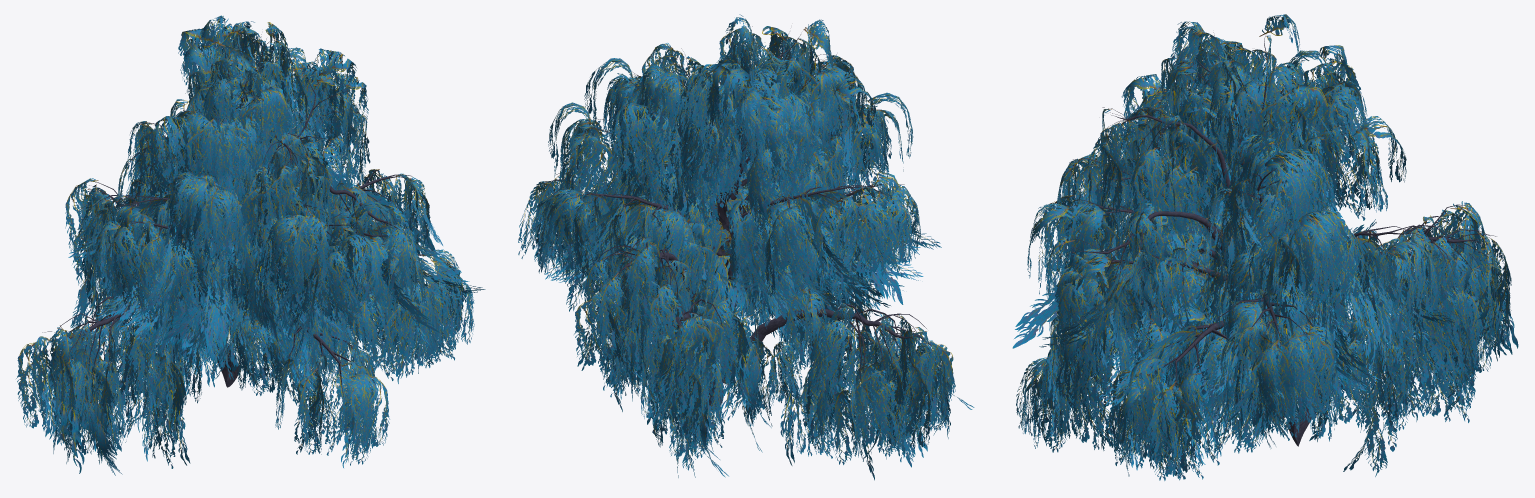
3 views of the same model, side by side, from view 1: azimuth 30°, elevation 25°; view 2: azimuth 150°, elevation 25°; view 3: azimuth 270°, elevation 25° (orthographic). The views are drawn at different scales.
Visible parts, largest first — view 1: SM_Willow_02_Canopy_LOD0; view 2: SM_Willow_02_Canopy_LOD0; view 3: SM_Willow_02_Canopy_LOD0.
Part boxes in pixels (x1,y1,x2,y2): SM_Willow_02_Canopy_LOD0: (16,15,485,475); SM_Willow_02_Canopy_LOD0: (518,14,974,480); SM_Willow_02_Canopy_LOD0: (1012,14,1518,480).
Size of the model in its own units: 17.62 by 17.29 by 17.02.
Materials: 1 (1 with a texture image).
